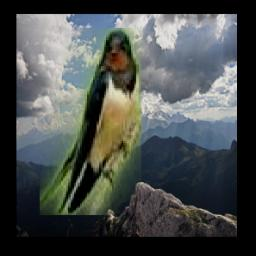Swallow: (40, 29, 141, 216)
